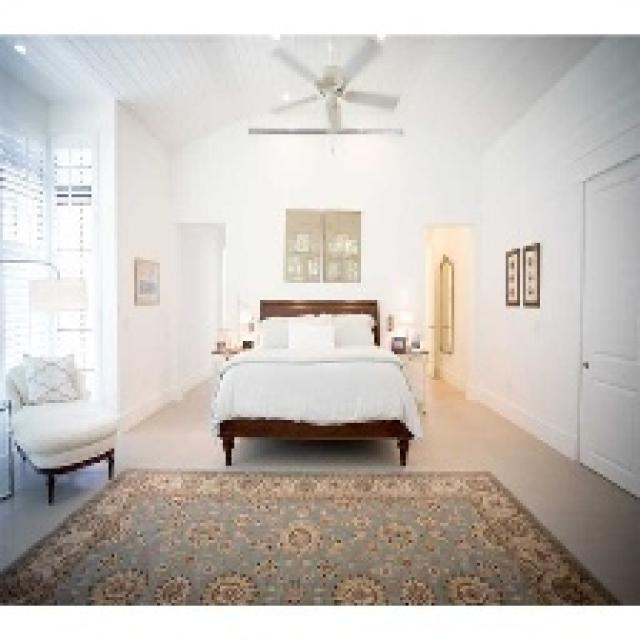Bed: (208, 297, 426, 466)
